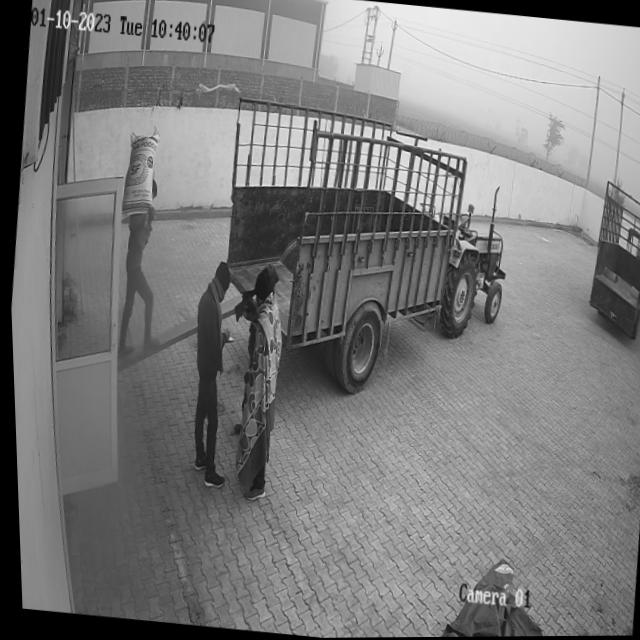sack: (116, 124, 161, 220)
